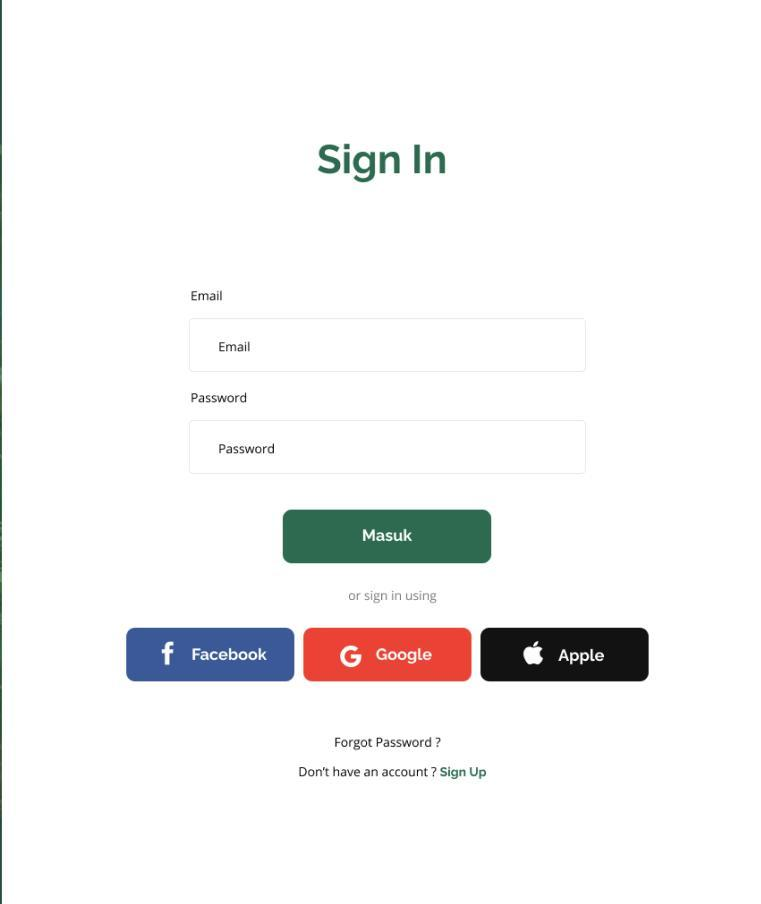button: (282, 510, 493, 565), (481, 625, 652, 683), (305, 626, 473, 685), (126, 627, 297, 682)
input: (190, 420, 585, 479), (187, 318, 589, 375)
label: (302, 140, 454, 185), (180, 285, 234, 308), (190, 390, 252, 410)
